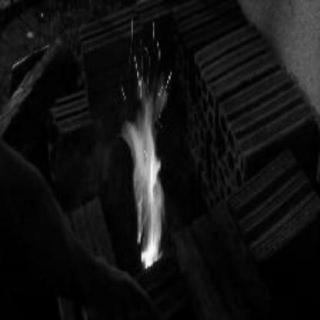Fire: (105, 52, 183, 276)
